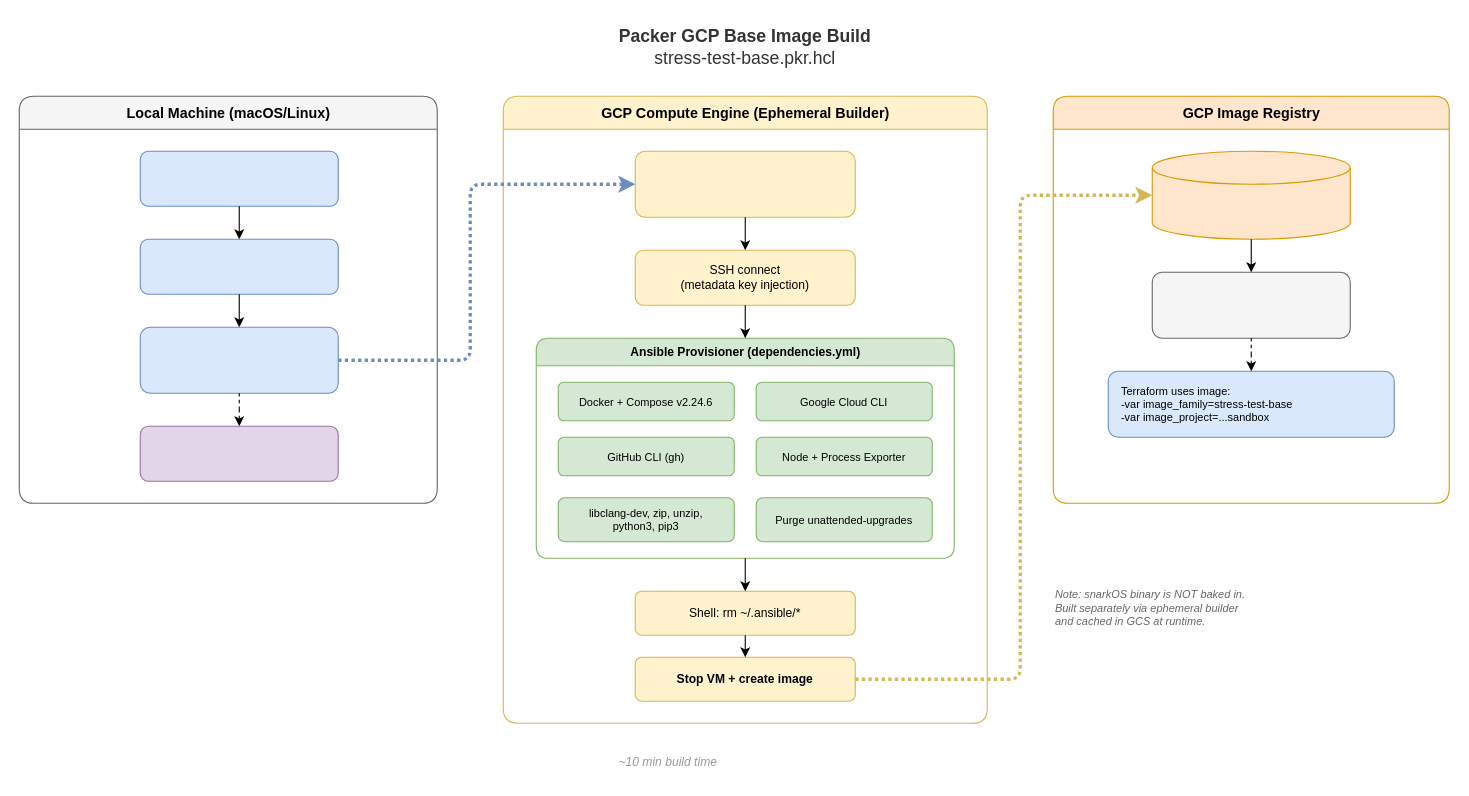
Image size: 1469x796. Some labels were removed from this diagram. Here are the shapes that lost their labels. From the top down, the centre of each, then its label:
the point at 238,178: packer init stress-test-base.pkr.hcl
the point at 744,183: Create c3d-standard-8 VM Ubuntu 22.04 base 50GB pd-ssd
the point at 1250,194: stress-test-base image family protocol-development-sandbox
the point at 238,266: Download plugins googlecompute + ansible
the point at 1250,304: Labels: managed-by = packer purpose = stress-testing
the point at 238,359: packer build -var network=... -var subnetwork=...
the point at 238,453: Auth via ADC (gcloud auth application-default)
